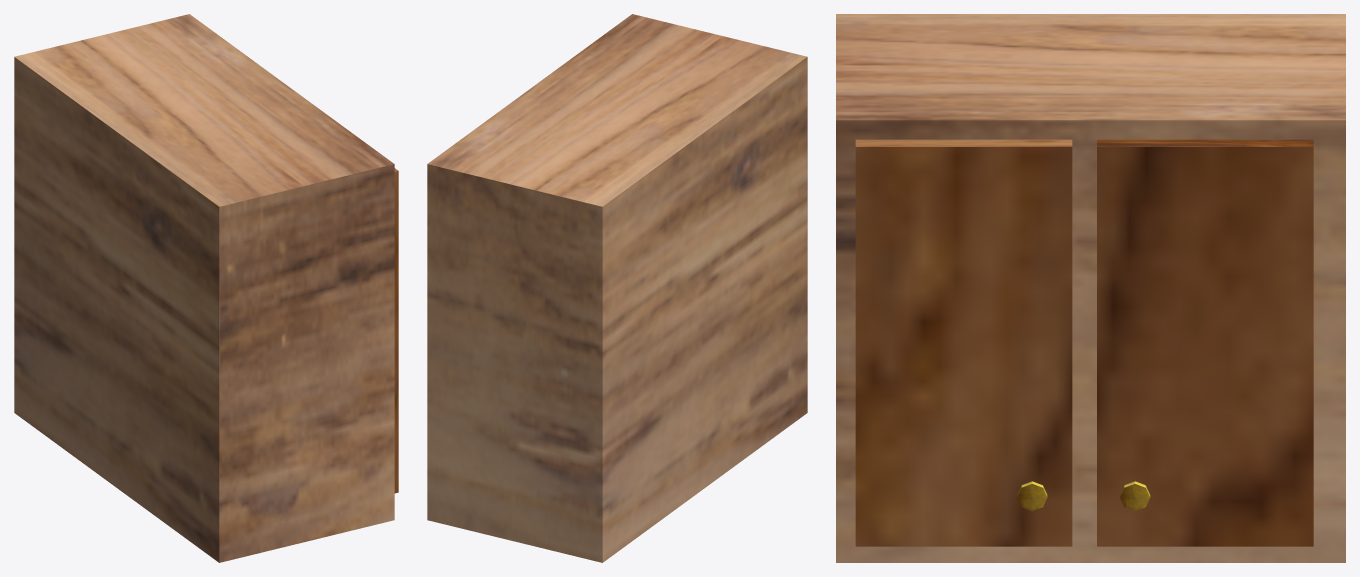
Rendered from KitchenCabinet.fbx.
The picture shows the model from 3 angles, left to right: view 1: azimuth 30°, elevation 25°; view 2: azimuth 150°, elevation 25°; view 3: azimuth 270°, elevation 25°; orthographic projection. The views are drawn at different scales.
Visible parts, largest first — view 1: Cube.020, Cube.021; view 2: Cube.020; view 3: Cube.020, Cube.021, Cube.022, Cylinder.013, Cylinder.014.
Part boxes in pixels (x1,y1,x2,y2): Cube.020: (14, 14, 394, 562); Cube.021: (394, 168, 398, 493); Cube.020: (427, 14, 807, 562); Cube.020: (836, 14, 1345, 562); Cube.021: (855, 139, 1072, 546); Cube.022: (1097, 139, 1313, 546); Cylinder.013: (1017, 481, 1047, 511); Cylinder.014: (1120, 481, 1150, 510).
Bounding box in the file's own units: 46.01 × 85.32 × 81.76.
